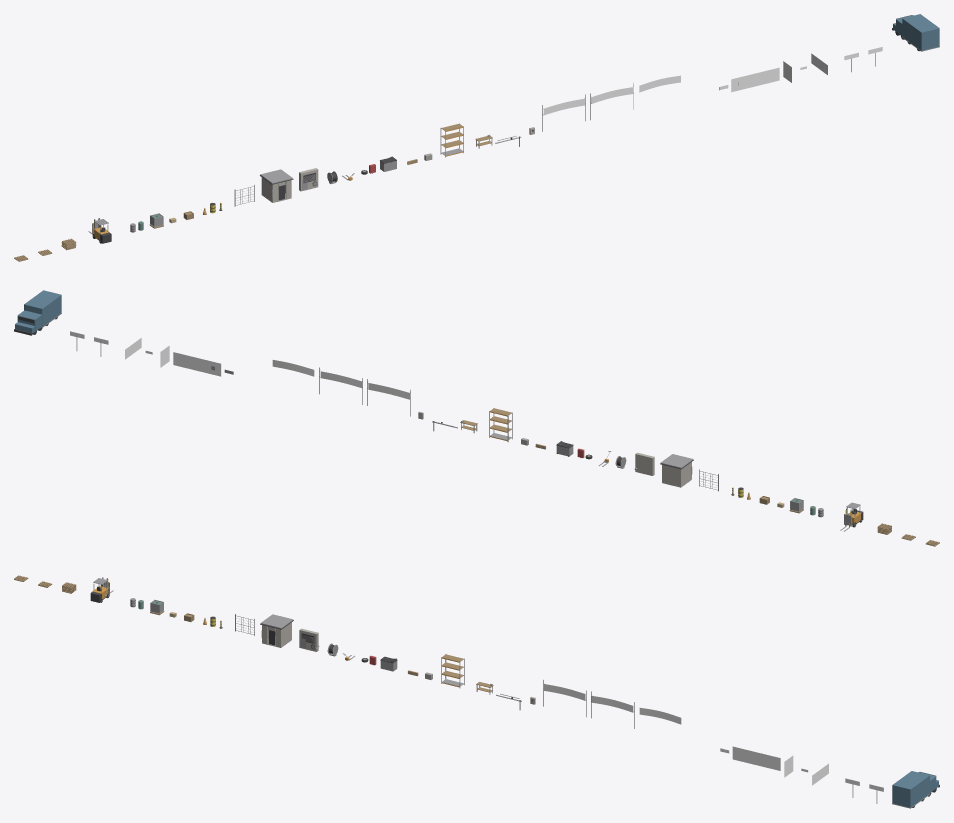
Rendered from yardprops.glb.
The picture shows the model from 3 angles, top to bottom: view 1: azimuth 30°, elevation 25°; view 2: azimuth 150°, elevation 25°; view 3: azimuth 330°, elevation 25°; orthographic projection.
Parts seen in each view (by area): view 1: truck, booth, hcd_side, rack; view 2: truck, booth, hcd_side; view 3: truck, booth, hcd_side, rack.
Boxes of the visible parts, x1,y1,x2,y2 form: truck: [892, 14, 939, 51]; booth: [260, 169, 293, 202]; hcd_side: [731, 67, 779, 91]; rack: [440, 123, 463, 157]; truck: [14, 290, 61, 335]; booth: [660, 454, 693, 487]; hcd_side: [173, 352, 221, 376]; truck: [892, 771, 939, 808]; booth: [260, 614, 293, 647]; hcd_side: [732, 746, 780, 770]; rack: [441, 654, 464, 688].
Bounding box in the file's own units: 114 × 5.1 × 6.47.
